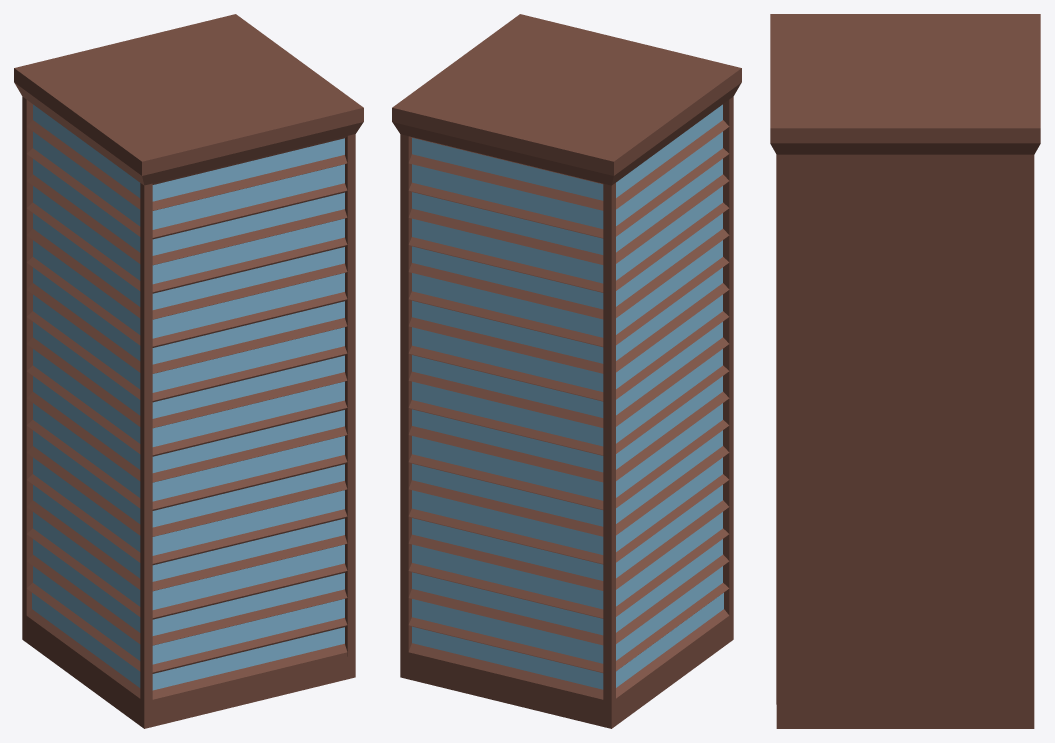
The model's file is House1.fbx.
3 views of the same model, side by side, from view 1: azimuth 30°, elevation 25°; view 2: azimuth 150°, elevation 25°; view 3: azimuth 270°, elevation 25° (orthographic). The views are drawn at different scales.
Parts seen in each view (by area): view 1: Cube; view 2: Cube; view 3: Cube.
Part boxes in pixels (x1,y1,x2,y2): Cube: (14, 14, 363, 728); Cube: (392, 14, 741, 728); Cube: (770, 14, 1040, 728).
Bounding box in the file's own units: 1702 × 4186 × 1702.
